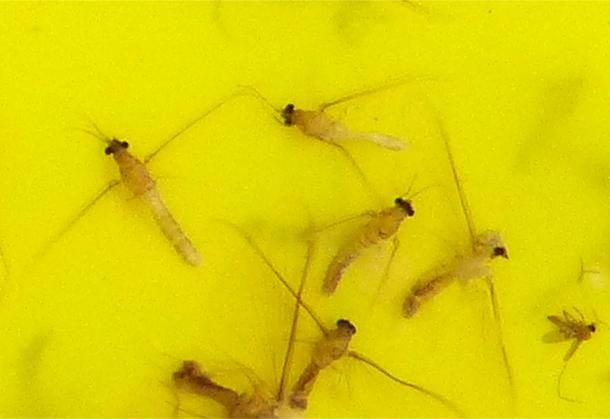Ephemeroptera: (100, 131, 202, 270), (399, 228, 510, 319), (319, 194, 417, 296), (278, 100, 415, 163), (284, 314, 360, 414), (169, 358, 287, 419)
Nematocera: (544, 312, 599, 343)
